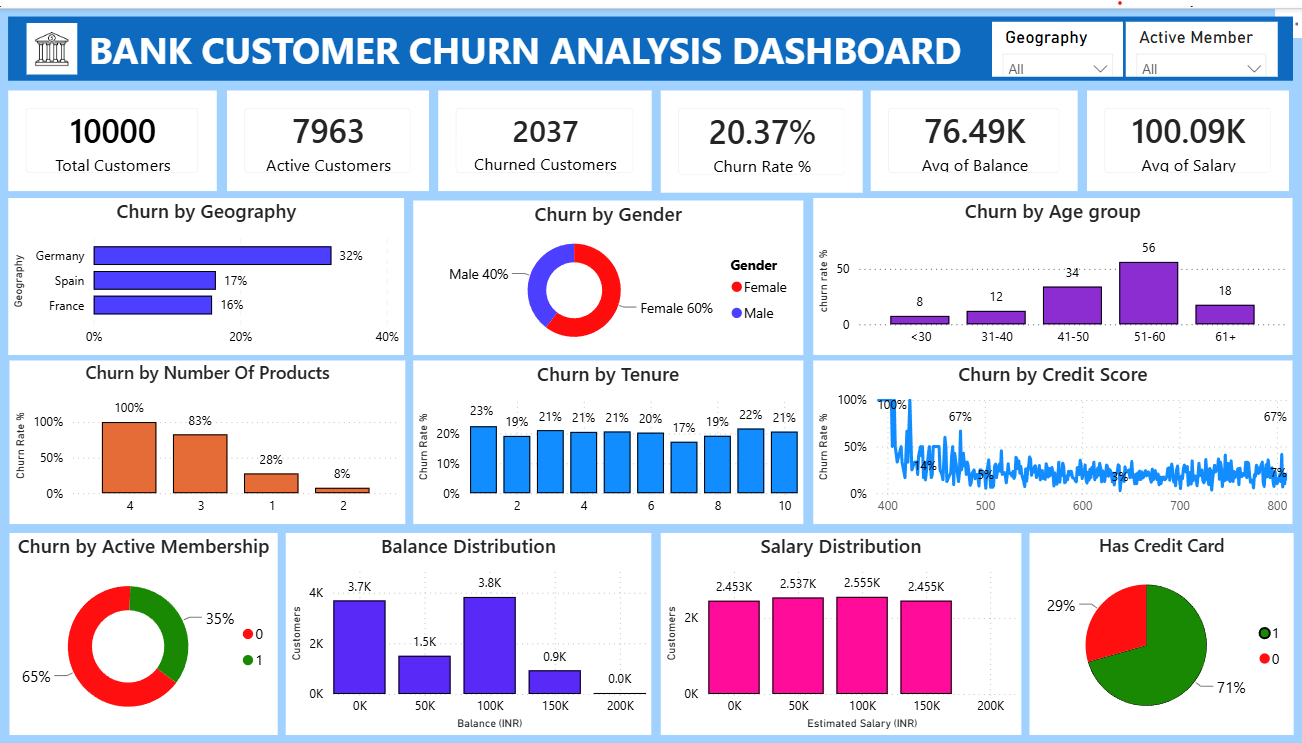

Layout of this report page (visuals, bound fields, positions):
{"tool":"powerbi","page":{"name":"Page 1","canvas":[1280,720],"ordinal":0},"visuals":[{"type":"shape","box":[0,0,1280,720],"z":0},{"type":"shape","title":"BANK","box":[11,8.6,1257.1,62.4],"z":1000},{"type":"slicer","fields":{"Values":["Churn_Modelling.IsActiveMember"]},"box":[1104.2,13.5,148,53.8],"z":2000},{"type":"slicer","fields":{"Values":["Churn_Modelling.Geography"]},"box":[973.4,13.5,128.4,53.8],"z":3000},{"type":"cardVisual","fields":{"Data":["CountNonNull(Churn_Modelling.Surname)"]},"box":[11.2,81.2,203.8,98.8],"z":4000},{"type":"cardVisual","fields":{"Data":["Churn_Modelling.Churn Rate"]},"box":[648.8,81.2,197.5,100],"z":5000},{"type":"cardVisual","fields":{"Data":["Avg(Churn_Modelling.Balance)"]},"box":[855,81.2,202.5,98.8],"z":6000},{"type":"clusteredBarChart","title":"Churn by Geography","fields":{"Category":["Churn_Modelling.Geography"],"Y":["Churn_Modelling.Churn Rate %"]},"box":[11.2,186.2,387.5,153.8],"z":7000},{"type":"image","box":[28.1,14.7,51.4,50.1],"z":8000},{"type":"donutChart","title":"Churn by Gender","fields":{"Y":["Churn_Modelling.Churn Rate %"],"Category":["Churn_Modelling.Gender"]},"box":[407.5,188.8,381.2,151.2],"z":9000},{"type":"clusteredColumnChart","title":"Churn by Age group","fields":{"Category":["churn xlx.Age_group"],"Y":["Sum(churn xlx.churn_percent)"]},"box":[798.8,186.2,468.8,153.8],"z":10000},{"type":"clusteredColumnChart","title":"Churn by Tenure","fields":{"Y":["Churn_Modelling.Churn Rate %"],"Category":["Churn_Modelling.Tenure"]},"box":[407.5,345,381.2,160],"z":11000},{"type":"cardVisual","fields":{"Data":["Avg(Churn_Modelling.EstimatedSalary)"]},"box":[1066.2,81.2,197.5,98.8],"z":12000},{"type":"columnChart","title":"Churn by Number Of Products","fields":{"Category":["Churn_Modelling.NumOfProducts"],"Y":["Churn_Modelling.Churn Rate %"]},"box":[12.5,345,387.5,160],"z":13000},{"type":"lineChart","title":"Churn by Credit Score","fields":{"Y":["Churn_Modelling.Churn Rate %"],"Category":["Churn_Modelling.CreditScore"]},"box":[798.8,345,468.8,160],"z":14000},{"type":"donutChart","title":"Churn by Active Membership","fields":{"Y":["Churn_Modelling.Churn Rate %"],"Category":["Churn_Modelling.IsActiveMember"]},"box":[12.5,513.8,262.5,197.5],"z":15000},{"type":"clusteredColumnChart","title":"Balance Distribution","fields":{"Category":["Churn_Modelling.Balance (bins)"],"Y":["CountNonNull(Churn_Modelling.CustomerId)"]},"box":[282.5,513.8,357.5,197.5],"z":16000},{"type":"clusteredColumnChart","title":" Salary Distribution","fields":{"Y":["CountNonNull(Churn_Modelling.CustomerId)"],"Category":["Churn_Modelling.EstimatedSalary (bins)"]},"box":[648.8,513.8,352.5,197.5],"z":17000},{"type":"pieChart","title":"Has Credit Card","fields":{"Category":["Churn_Modelling.HasCrCard"],"Y":["CountNonNull(Churn_Modelling.CustomerId)"]},"box":[1010,513.8,258.8,197.5],"z":18000},{"type":"cardVisual","fields":{"Data":["Churn_Modelling.Churned customers"]},"box":[431.2,81.2,208.8,98.8],"z":19000},{"type":"cardVisual","fields":{"Data":["Churn_Modelling.Active Customers"]},"box":[225,81.2,197.5,98.8],"z":20000}]}

Visuals, with their boxes in screenshot pixels (x1, y1, x2, y2), scaled from the page's 1280x720 canvas onto the 1302x743 screenshot:
shape: [left=0, top=0, right=1301, bottom=742]
"BANK" shape: [left=11, top=9, right=1290, bottom=73]
slicer - Churn_Modelling.IsActiveMember: [left=1123, top=14, right=1274, bottom=69]
slicer - Churn_Modelling.Geography: [left=990, top=14, right=1121, bottom=69]
cardVisual - CountNonNull(Churn_Modelling.Surname): [left=11, top=84, right=219, bottom=186]
cardVisual - Churn_Modelling.Churn Rate: [left=660, top=84, right=861, bottom=187]
cardVisual - Avg(Churn_Modelling.Balance): [left=870, top=84, right=1076, bottom=186]
"Churn by Geography" clusteredBarChart: [left=11, top=192, right=406, bottom=351]
image: [left=29, top=15, right=81, bottom=67]
"Churn by Gender" donutChart: [left=415, top=195, right=802, bottom=351]
"Churn by Age group" clusteredColumnChart: [left=813, top=192, right=1289, bottom=351]
"Churn by Tenure" clusteredColumnChart: [left=415, top=356, right=802, bottom=521]
cardVisual - Avg(Churn_Modelling.EstimatedSalary): [left=1085, top=84, right=1285, bottom=186]
"Churn by Number Of Products" columnChart: [left=13, top=356, right=407, bottom=521]
"Churn by Credit Score" lineChart: [left=813, top=356, right=1289, bottom=521]
"Churn by Active Membership" donutChart: [left=13, top=530, right=280, bottom=734]
"Balance Distribution" clusteredColumnChart: [left=287, top=530, right=651, bottom=734]
" Salary Distribution" clusteredColumnChart: [left=660, top=530, right=1019, bottom=734]
"Has Credit Card" pieChart: [left=1027, top=530, right=1291, bottom=734]
cardVisual - Churn_Modelling.Churned customers: [left=439, top=84, right=651, bottom=186]
cardVisual - Churn_Modelling.Active Customers: [left=229, top=84, right=430, bottom=186]
